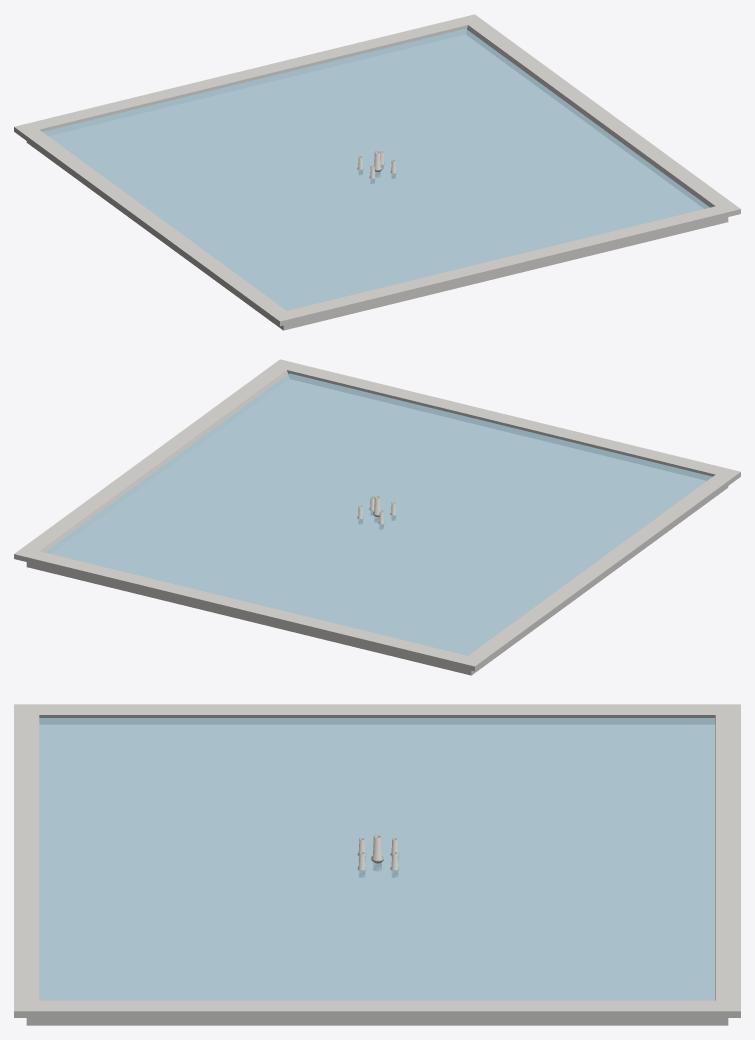
The model's file is fuente.glb.
3 renders of one model, top to bottom at view 1: azimuth 30°, elevation 25°; view 2: azimuth 150°, elevation 25°; view 3: azimuth 270°, elevation 25°, orthographic. The views are drawn at different scales.
Visible parts, largest first — view 1: objeto; view 2: objeto; view 3: objeto.
Part boxes in pixels (x1,y1,x2,y2): objeto: (14, 14, 740, 330); objeto: (14, 359, 740, 675); objeto: (14, 704, 740, 1025).
Size of the model in its own units: 19.41 by 1.2 by 19.41.
